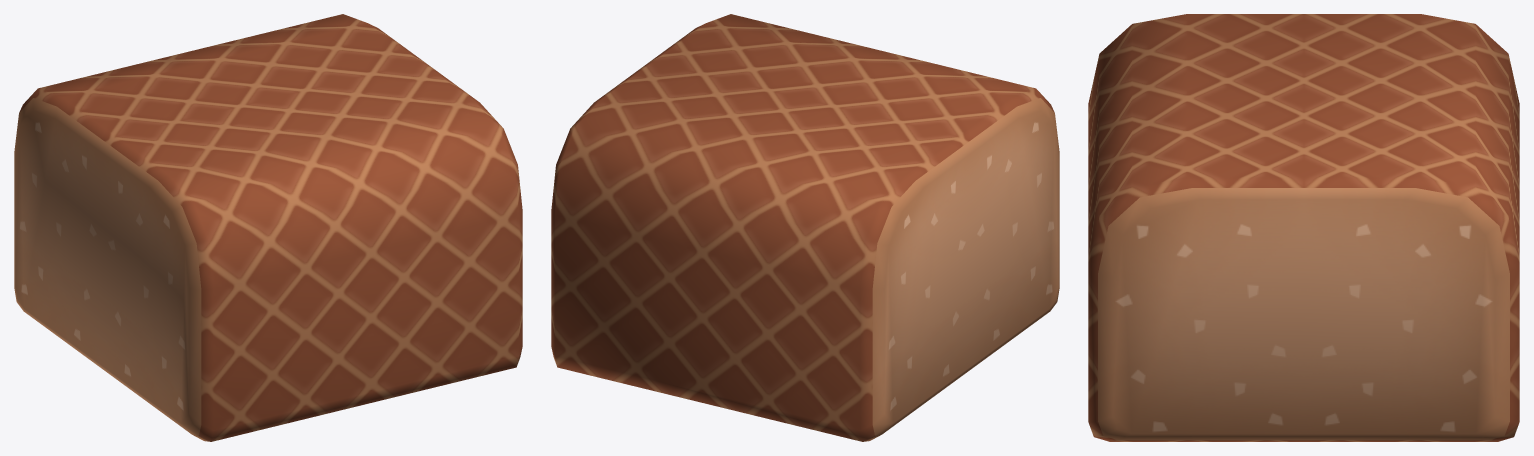
The model's file is FOD0110009.fbx.
3 renders of one model, left to right at view 1: azimuth 30°, elevation 25°; view 2: azimuth 150°, elevation 25°; view 3: azimuth 270°, elevation 25°, orthographic. The views are drawn at different scales.
Parts seen in each view (by area): view 1: smFOD0110009; view 2: smFOD0110009; view 3: smFOD0110009.
Part boxes in pixels (x1,y1,x2,y2): smFOD0110009: (14,14,522,441); smFOD0110009: (551,14,1059,441); smFOD0110009: (1088,14,1519,441).
Bounding box in the file's own units: 13.38 × 9.25 × 13.68.
Materials: 1 (1 with a texture image).
